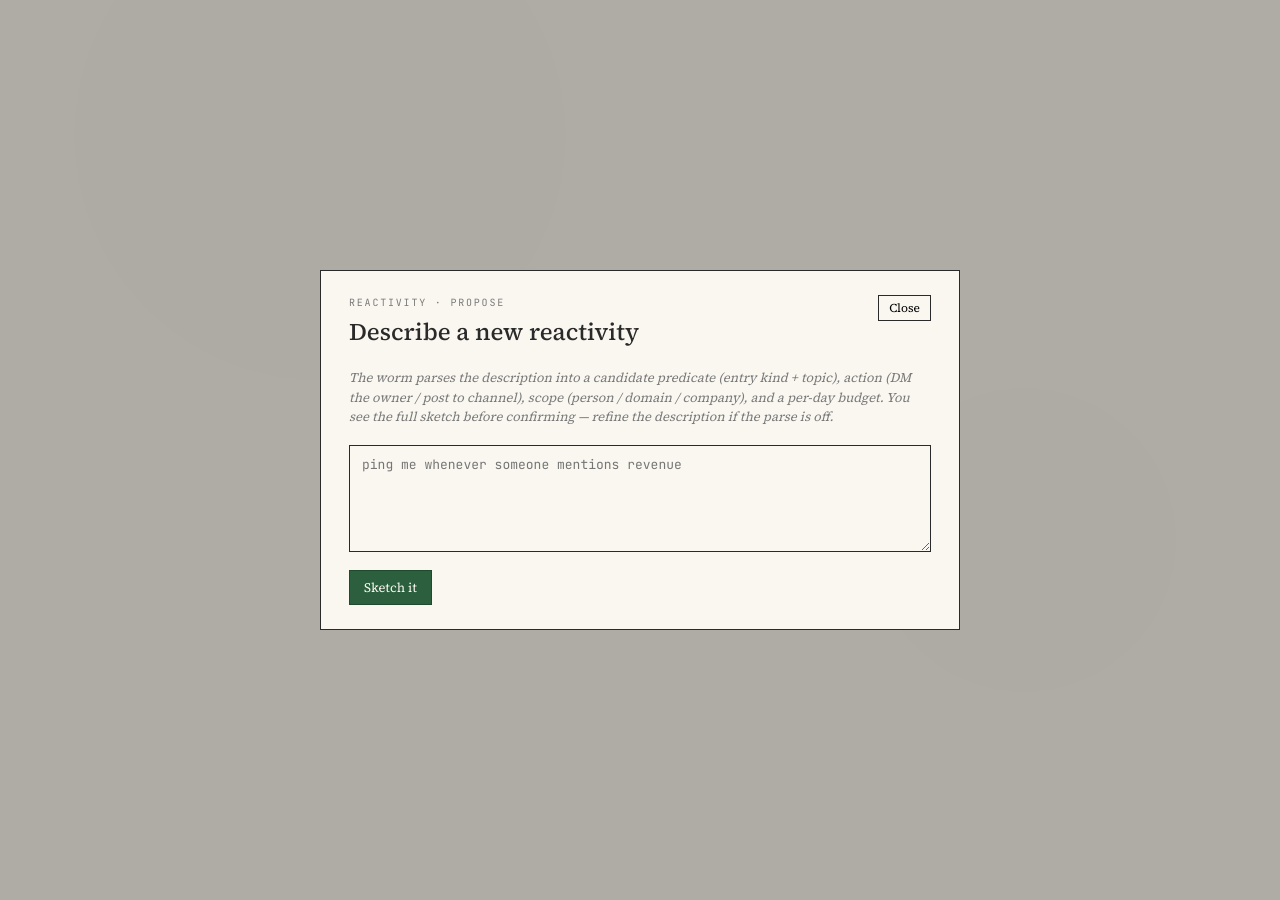
it: ProposeReactivityModal › Refine description goes back to the compose stage
The image size is (1280, 900).
Type "ping me" into the text box with test id "propose-reactivity-description" at (640, 498), box [349,445,931,552]
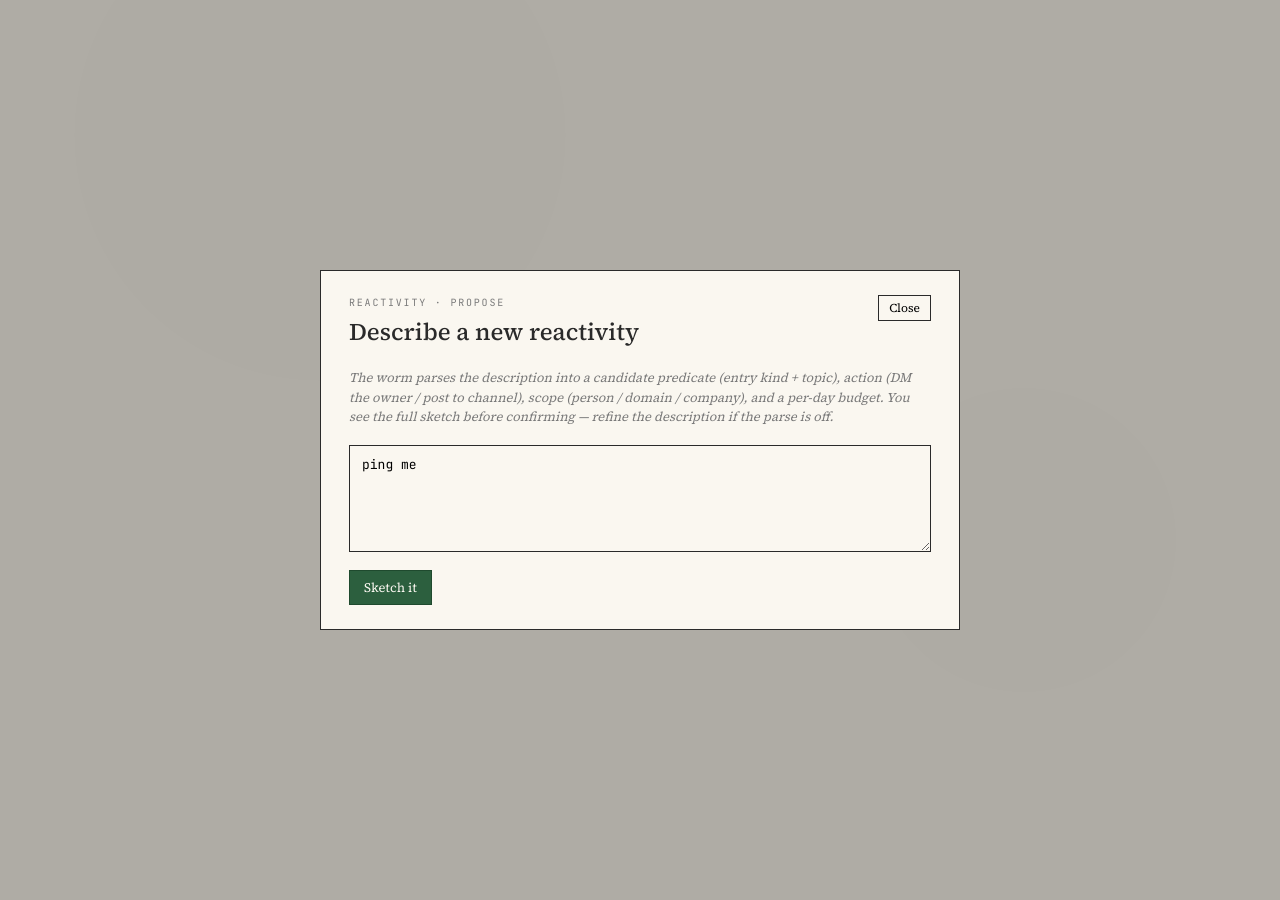
Click the button with test id "propose-reactivity-preview" at (390, 587), box [349,570,432,605]
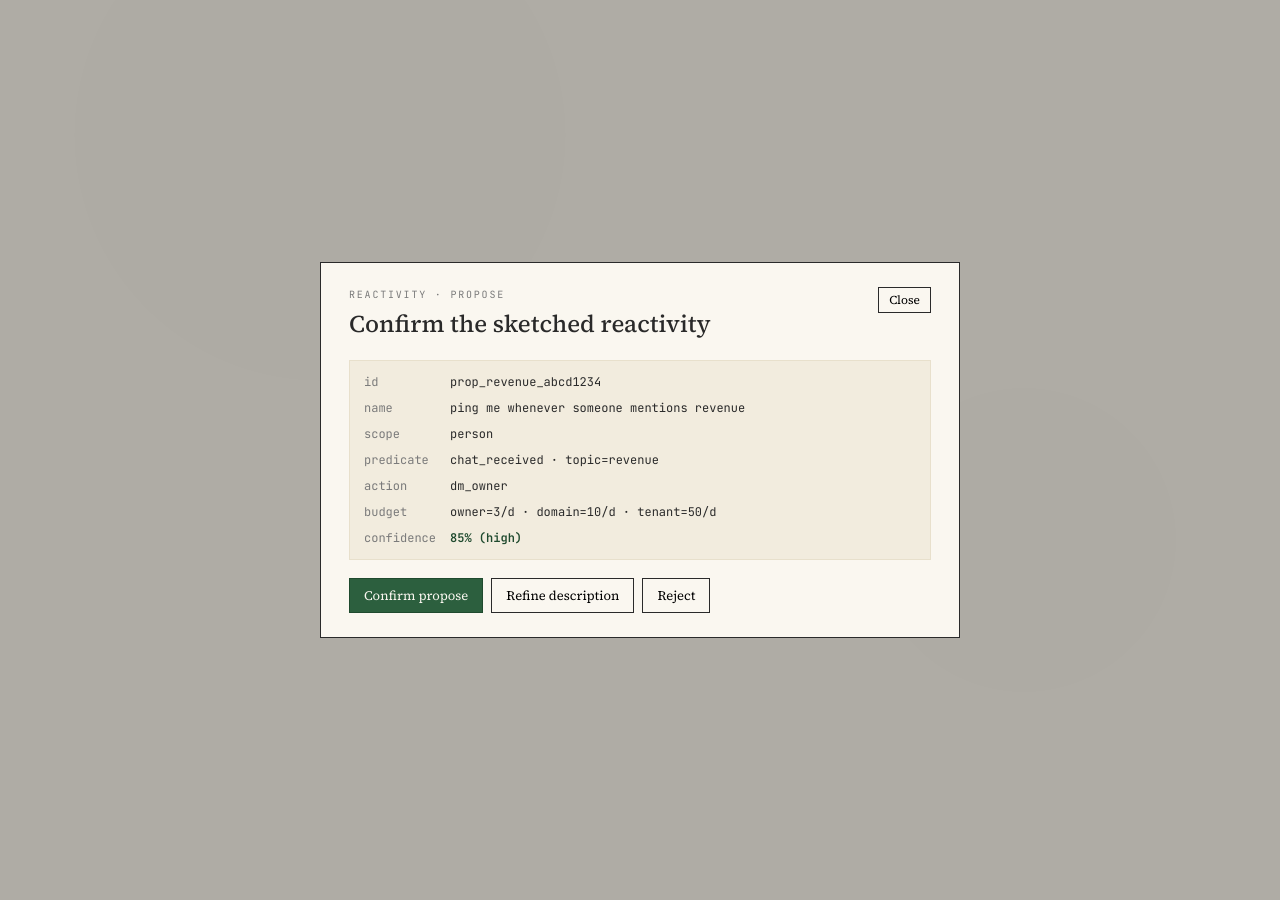
Expected: the element with test id "propose-reactivity-sketch" is shown, [349,360,931,560]
Click the button with test id "propose-reactivity-refine" at (563, 596), box [491,578,634,613]
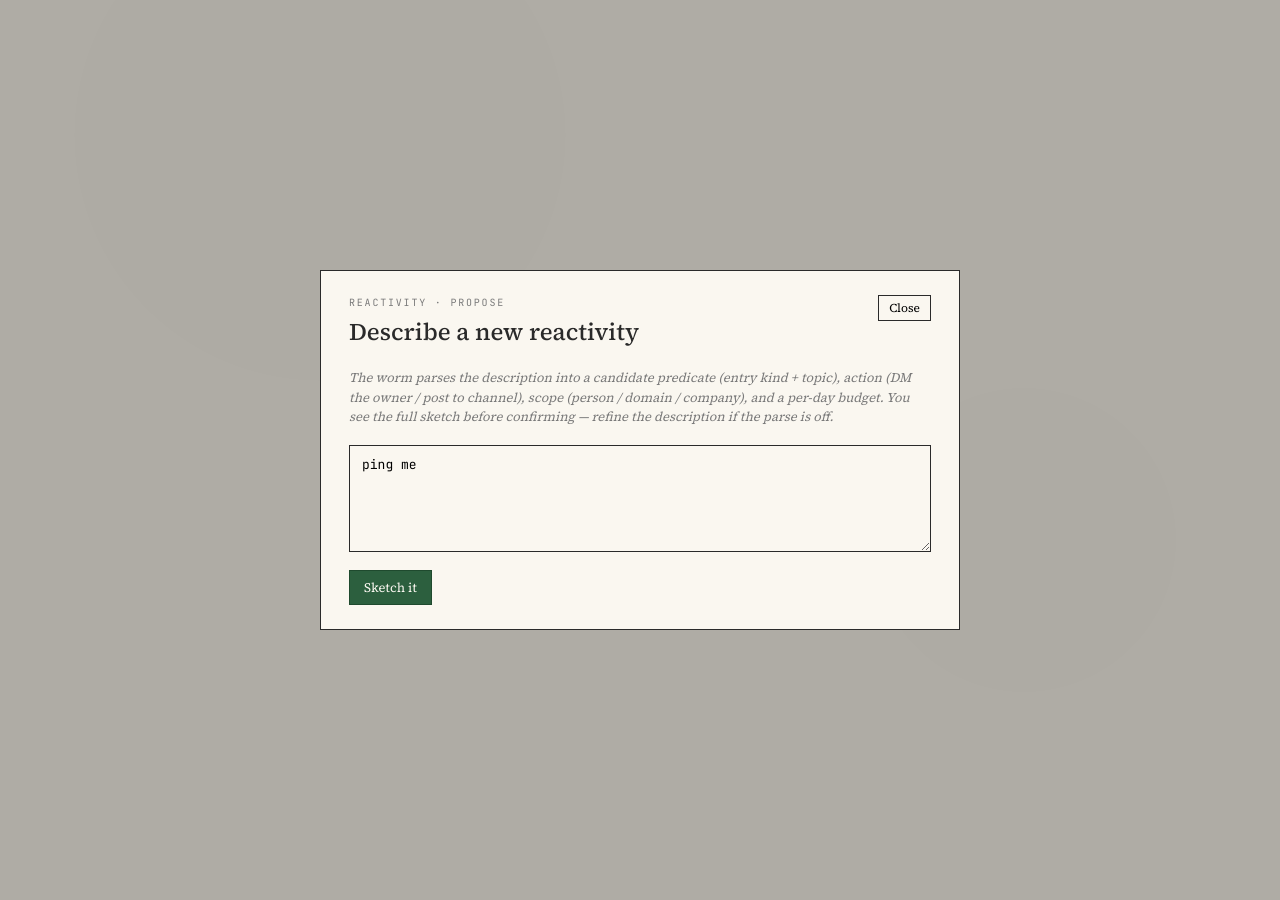
Expected: the text box with test id "propose-reactivity-description" is shown, [349,445,931,552]
Expected: the element with test id "propose-reactivity-sketch" is gone
